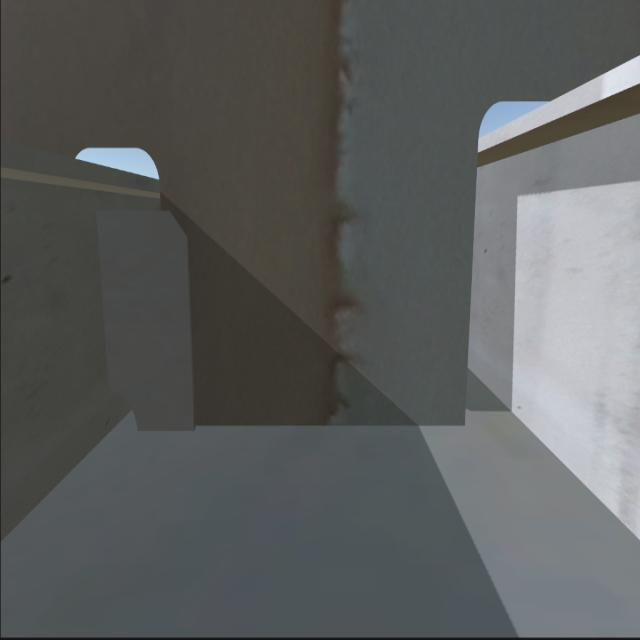fillet_hole: (108, 397, 137, 434)
fillet_yong_jeop_jang: (143, 425, 462, 431)
longi_yong_jeop_jang: (98, 216, 112, 392)
plate_CP03: (96, 204, 190, 443)
